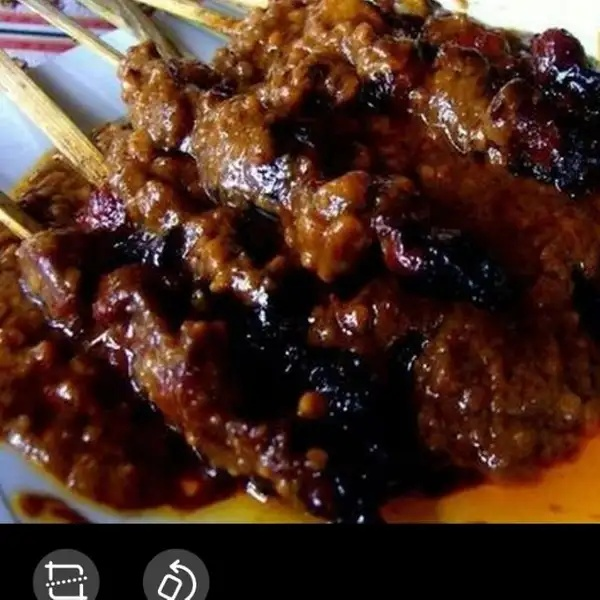sate_madura: (1, 1, 600, 511)
